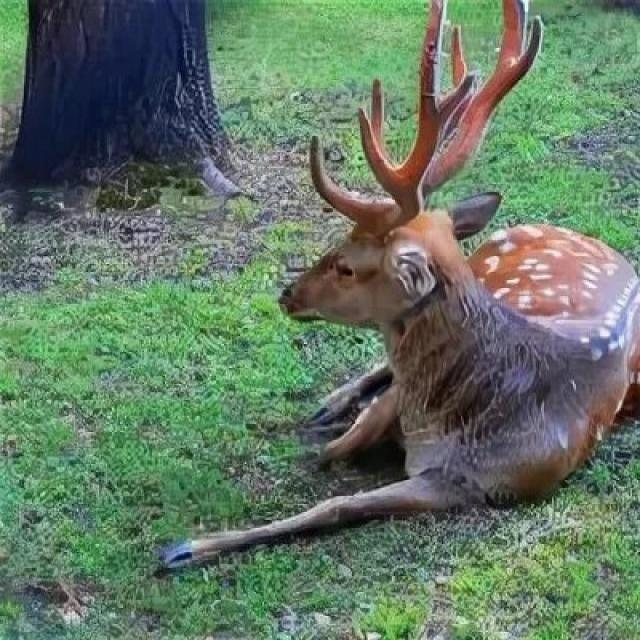deer: (205, 85, 640, 592)
